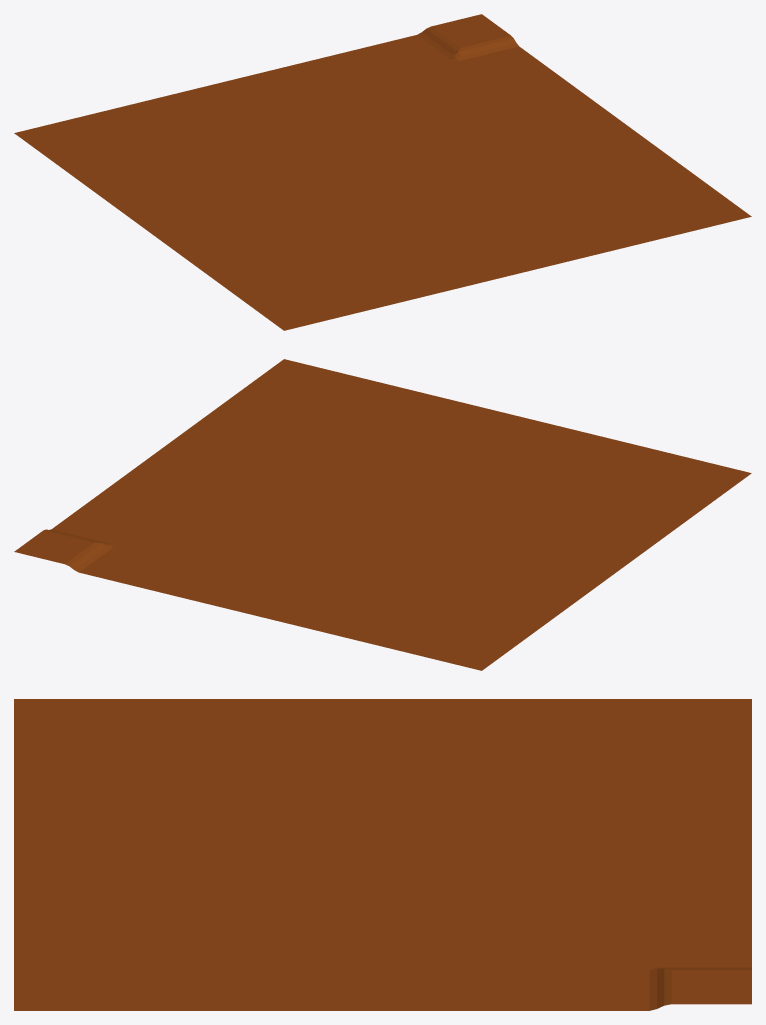
Rendered from Terrain_Part_Plane_17.glb.
The picture shows the model from 3 angles, top to bottom: view 1: azimuth 30°, elevation 25°; view 2: azimuth 150°, elevation 25°; view 3: azimuth 270°, elevation 25°; orthographic projection. The views are drawn at different scales.
Parts seen in each view (by area): view 1: Terrain_Part_Plane_17.001; view 2: Terrain_Part_Plane_17.001; view 3: Terrain_Part_Plane_17.001.
Part boxes in pixels (x1,y1,x2,y2): Terrain_Part_Plane_17.001: [14, 14, 751, 330]; Terrain_Part_Plane_17.001: [14, 359, 751, 670]; Terrain_Part_Plane_17.001: [14, 699, 751, 1010].
Size of the model in its own units: 20 by 0.2 by 20.
